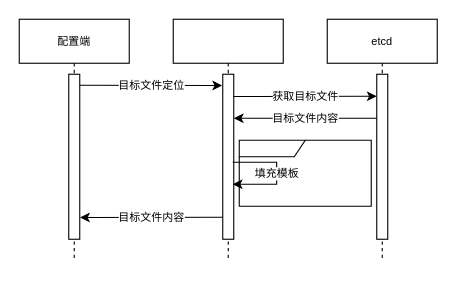
Image size: 457x281. Some labels were removed from this diagram. The centre of each missing label's shape, as x and y in pixels:
配置服务: point (227, 139)
需要填充: point (304, 172)
